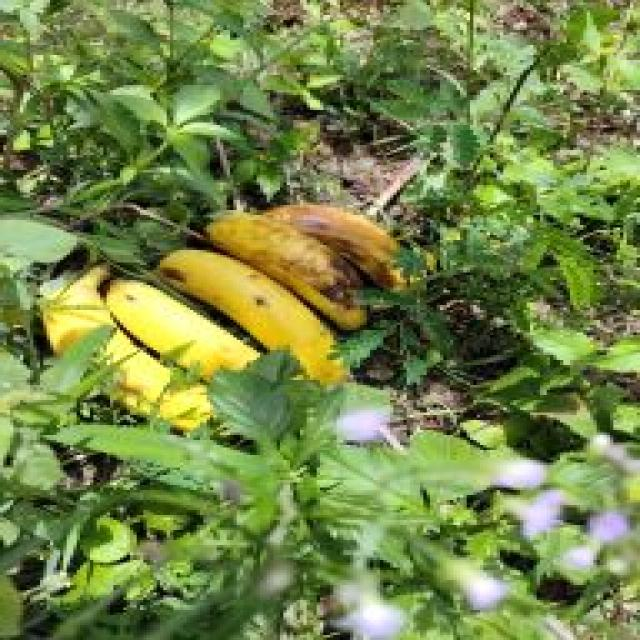Organik: (23, 278, 198, 460), (150, 238, 333, 396), (96, 266, 273, 408), (251, 176, 448, 292), (200, 196, 356, 324)
